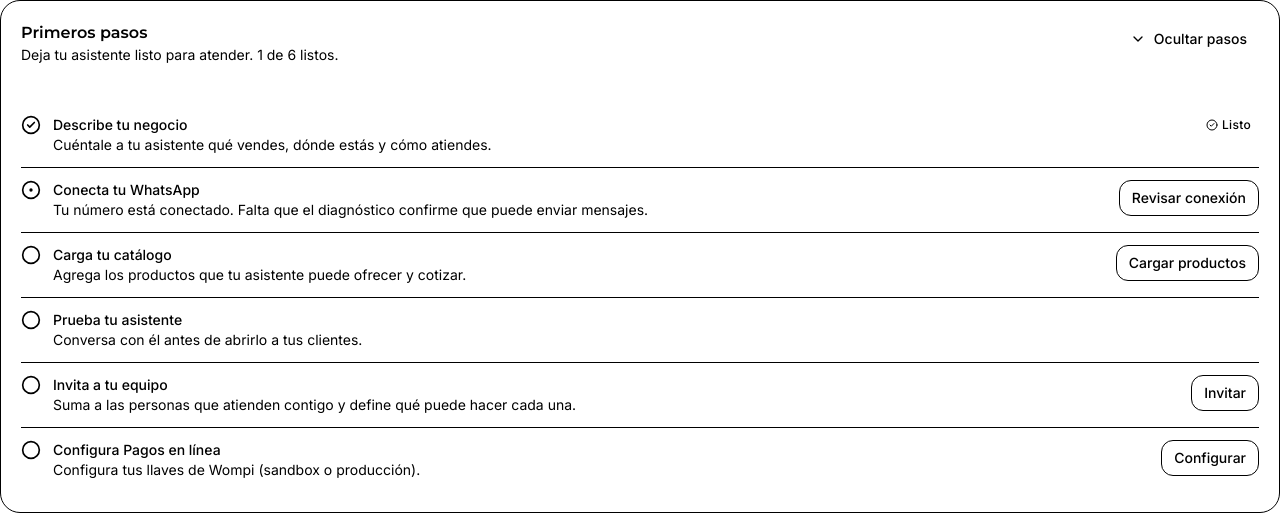
Scenario: PrimerosPasos (HU-SH-06) › se pliega con el teclado y recuerda la preferencia
Click the button "Ocultar pasos".
click(1188, 39)  # box [1118,21,1259,57]
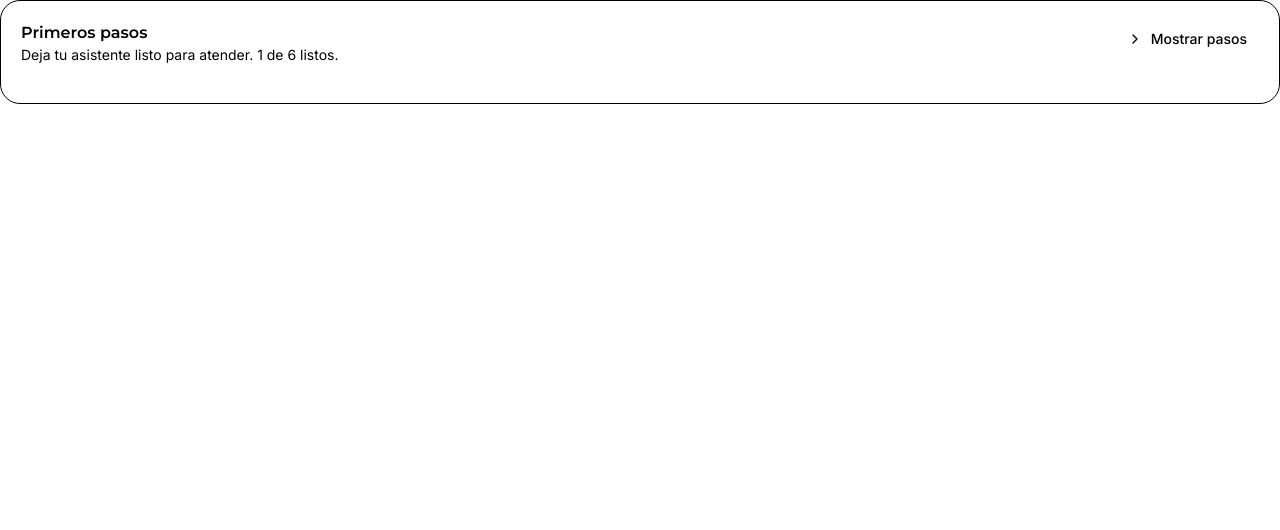
Expected: the button "Mostrar pasos" is collapsed, [1115,21,1259,57]
